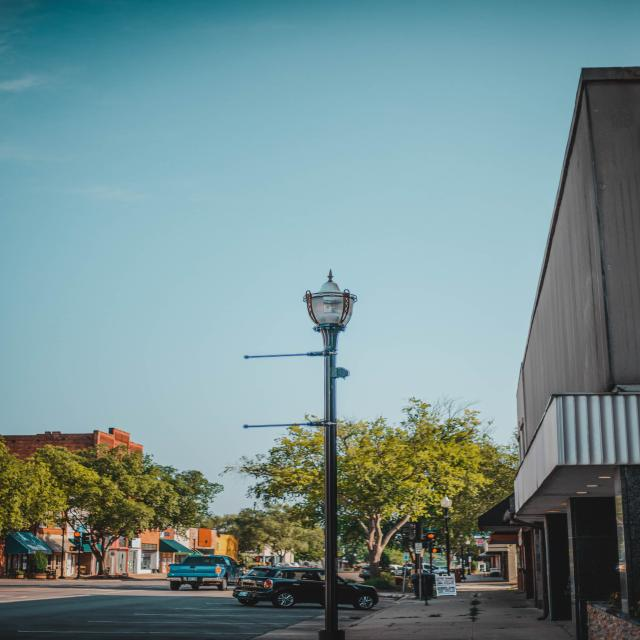Street Light: (305, 270, 358, 638), (440, 494, 453, 589), (465, 540, 471, 574)
